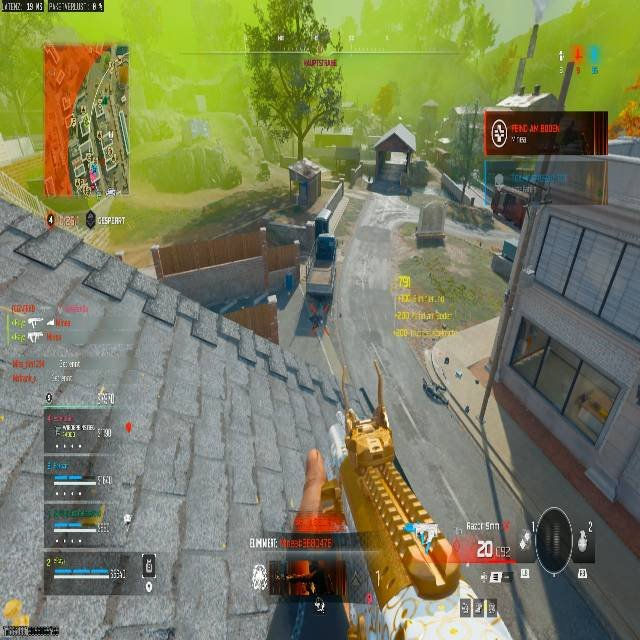head: (286, 159, 324, 206)
player: (309, 313, 322, 337)
